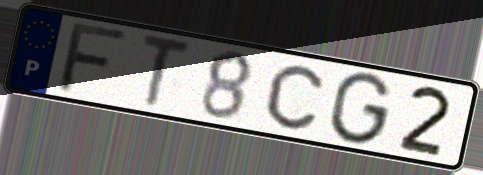2: (396, 86, 452, 159)
8: (198, 48, 257, 121)
C: (263, 62, 326, 133)
F: (53, 21, 134, 96)
G: (324, 70, 395, 148)
T: (138, 31, 195, 111)
